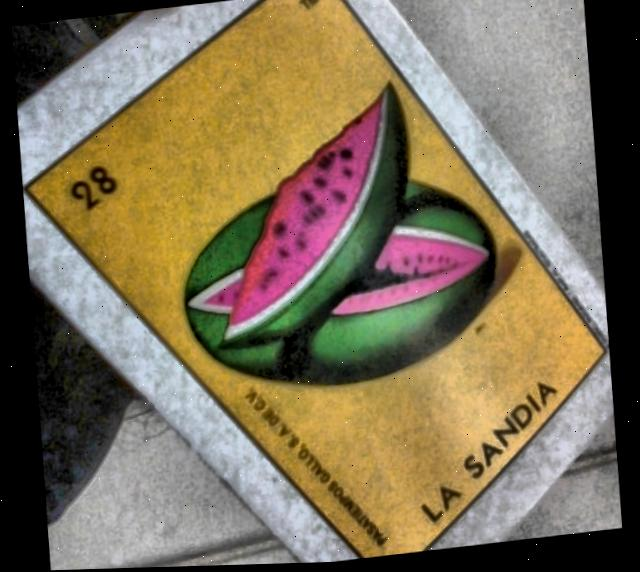La Sandia: (28, 0, 607, 560)
